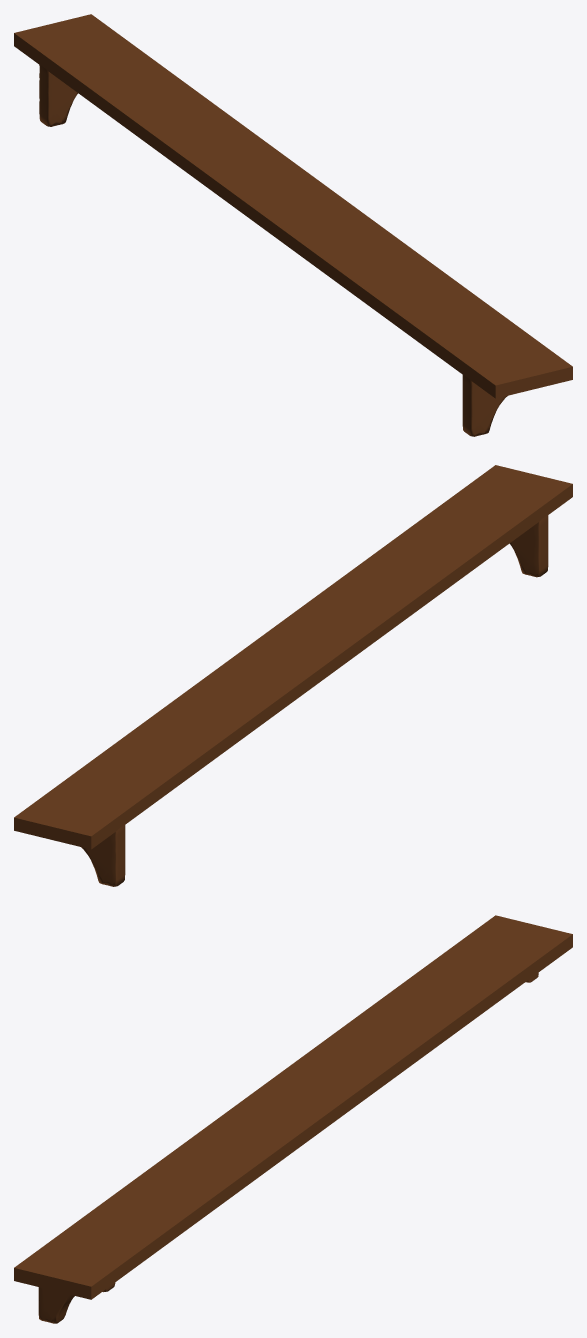
File: Plank.fbx
3 renders of one model, top to bottom at view 1: azimuth 30°, elevation 25°; view 2: azimuth 150°, elevation 25°; view 3: azimuth 330°, elevation 25°, orthographic.
Visible parts, largest first — view 1: Plank; view 2: Plank; view 3: Plank.
Boxes of the visible parts, x1=… form: Plank: x1=14, y1=14, x2=572, y2=436; Plank: x1=14, y1=465, x2=572, y2=886; Plank: x1=14, y1=915, x2=572, y2=1323.
Bounding box in the file's own units: 27.83 × 24.19 × 300.
